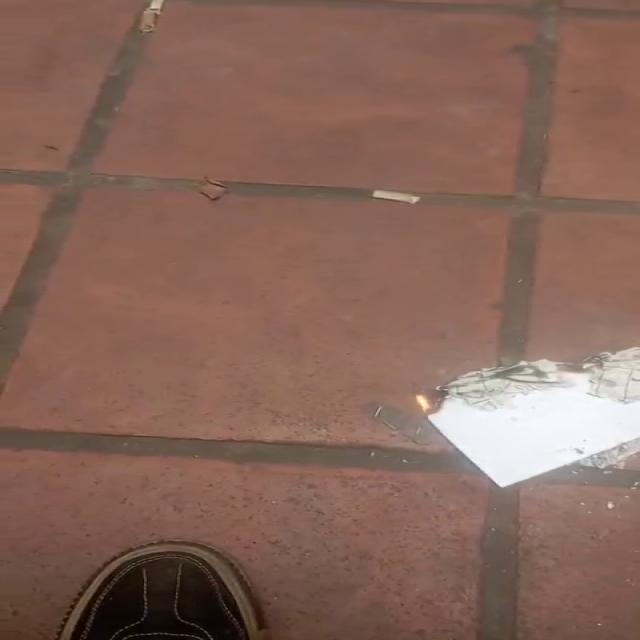Fire_Dangerous: (404, 389, 436, 411)
